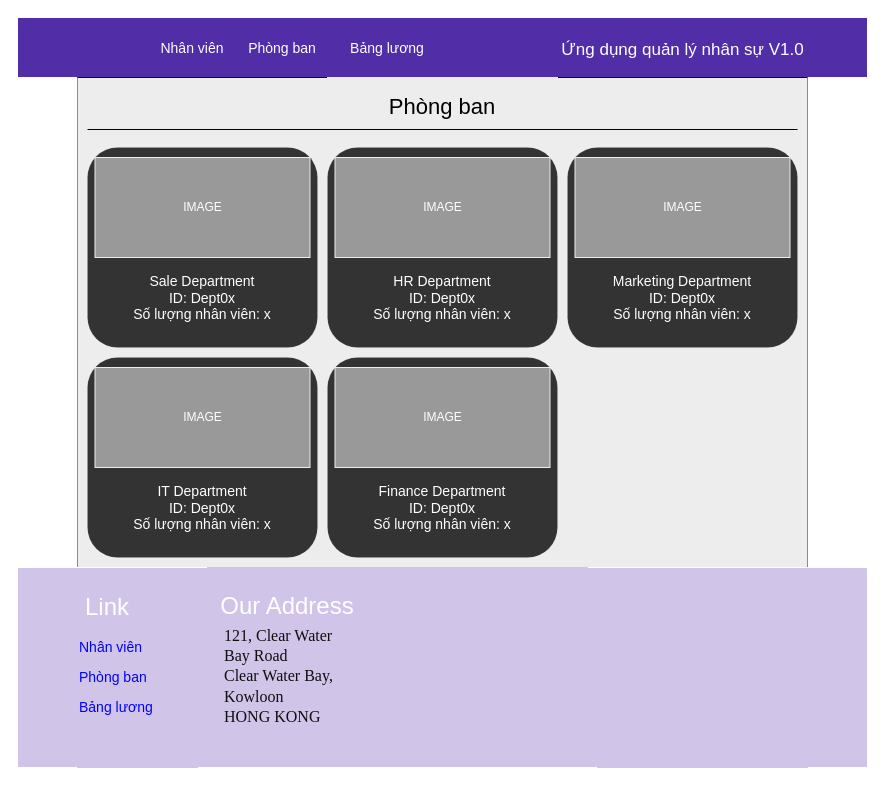
This 885x785 diagram has some shape labels left out. The centre of each missing label's shape, as x and y in pixels:
LOGO: pixel 442 47
Social - Icon: pixel 702 668
